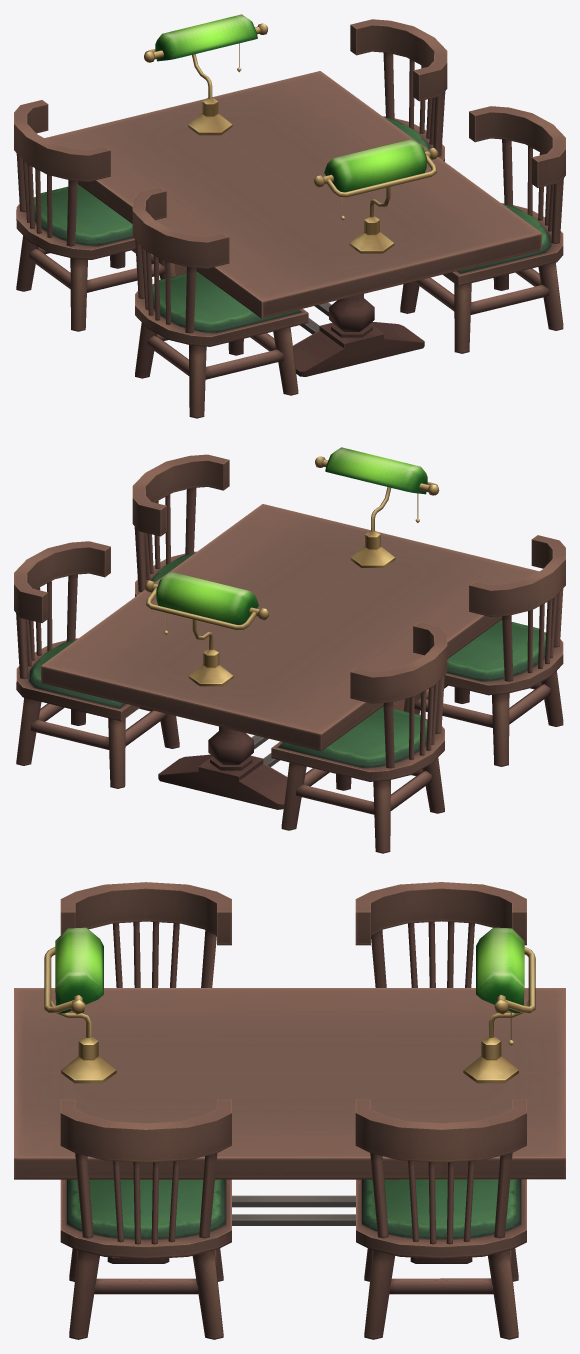
Rendered from my_wildhunt_01_table_02.glb.
3 views of the same model, one above another, from view 1: azimuth 30°, elevation 25°; view 2: azimuth 150°, elevation 25°; view 3: azimuth 270°, elevation 25° (orthographic). The views are drawn at different scales.
Visible parts, largest first — view 1: my_wildhunt_01_table_02; view 2: my_wildhunt_01_table_02; view 3: my_wildhunt_01_table_02.
Part boxes in pixels (x1,y1,x2,y2): my_wildhunt_01_table_02: (14, 14, 565, 418); my_wildhunt_01_table_02: (14, 447, 565, 853); my_wildhunt_01_table_02: (14, 882, 565, 1339).
Size of the model in its own units: 0.0119 by 0.00615 by 0.0112.
Materials: 1 (1 with a texture image).
